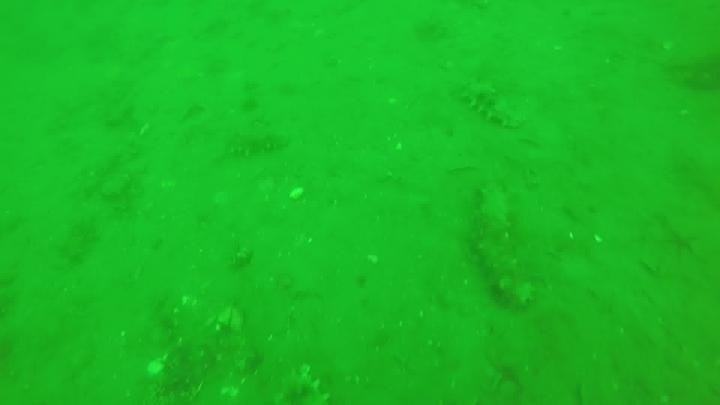holothurian: (467, 183, 540, 312), (454, 77, 527, 131), (266, 365, 334, 404), (220, 128, 291, 160)
